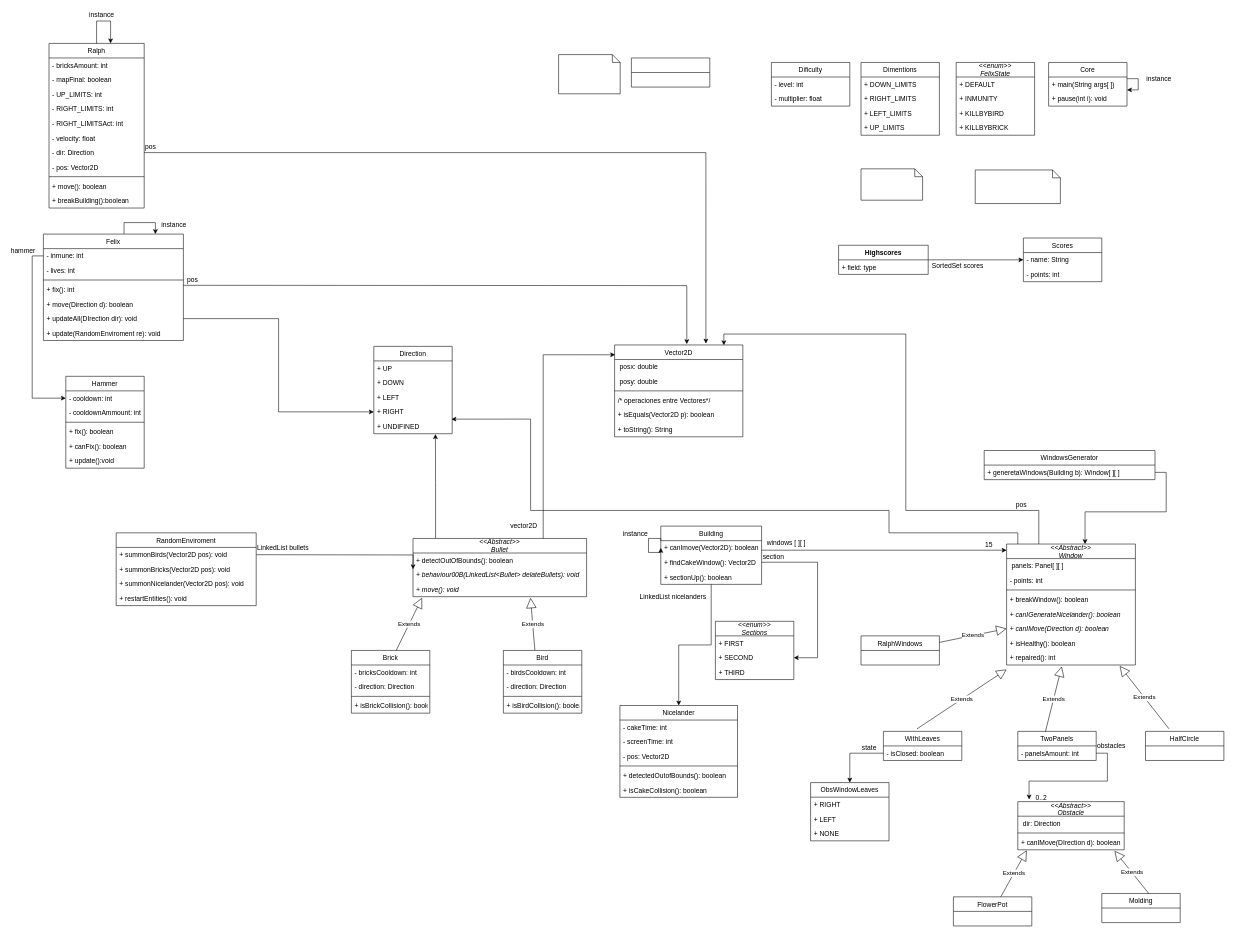
Some shapes in this 1234 by 936 pixel diagram are drawn without their labels. Each missing label, with the centre of its shape:
Agrupa todas las constantes del juego. Es conocida por todas las clases: [589,74]
GameConstants: [670,72]
La clase Core conoce a todas las clases: [891,184]
Las clases Dimentions y Difficulty, son conocidas por todas la clases: [1017,186]
